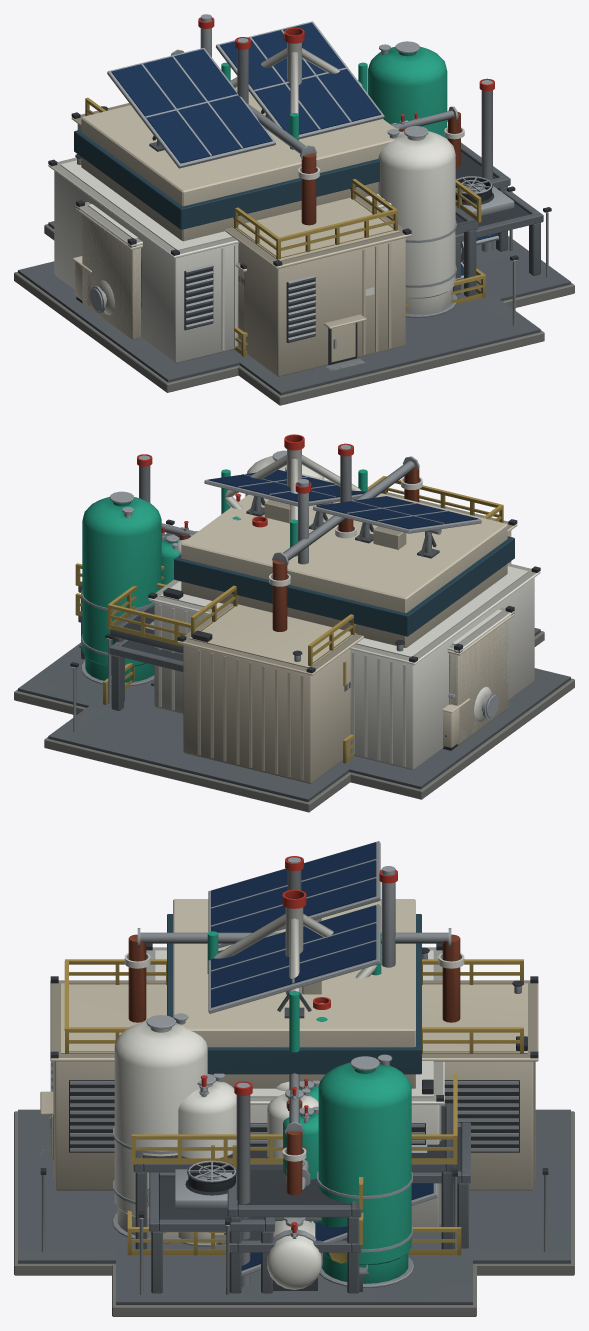
The model's file is buildings.glb.
3 views of the same model, one above another, from view 1: azimuth 30°, elevation 25°; view 2: azimuth 150°, elevation 25°; view 3: azimuth 270°, elevation 25° (orthographic). The views are drawn at different scales.
Visible parts, largest first — view 1: bld_3x2_a, bld_2x3_a, bld_3x1_c, bld_3x1_b, bld_2x2_a, bld_3x1_a, bld_2x2_f, bld_3x1_d; view 2: bld_3x2_a, bld_2x3_a, bld_2x2_a, bld_3x1_b, bld_3x1_c, bld_3x1_a, bld_3x1_d, bld_2x2_f; view 3: bld_3x2_a, bld_2x3_a, bld_2x2_a, bld_3x1_c, bld_3x1_a, bld_3x1_b, bld_2x2_b, bld_2x2_f, bld_3x1_d, bld_2x1_a.
Boxes of the visible parts, box(x1,y1,x2,y2) form: bld_3x2_a: box(14, 14, 574, 392); bld_2x3_a: box(44, 37, 544, 405); bld_3x1_c: box(76, 78, 510, 339); bld_3x1_b: box(76, 112, 515, 339); bld_2x2_a: box(221, 27, 481, 366); bld_3x1_a: box(55, 233, 528, 361); bld_2x2_f: box(234, 261, 485, 356); bld_3x1_d: box(90, 231, 507, 315); bld_3x2_a: box(14, 469, 574, 799); bld_2x3_a: box(44, 443, 544, 812); bld_2x2_a: box(105, 434, 367, 703); bld_3x1_b: box(161, 526, 514, 745); bld_3x1_c: box(75, 454, 514, 741); bld_3x1_a: box(76, 641, 533, 768); bld_3x1_d: box(75, 593, 498, 721); bld_2x2_f: box(103, 663, 354, 763); bld_3x2_a: box(112, 841, 476, 1316); bld_2x3_a: box(14, 856, 574, 1275); bld_2x2_a: box(113, 889, 475, 1264); bld_3x1_c: box(227, 1073, 363, 1293); bld_3x1_a: box(211, 1222, 377, 1316); bld_3x1_b: box(225, 1078, 322, 1294); bld_2x2_b: box(176, 1073, 236, 1246); bld_2x2_f: box(127, 1210, 461, 1255); bld_3x1_d: box(229, 1212, 363, 1292); bld_2x1_a: box(214, 1081, 318, 1260).
Bounding box in the file's own units: 2.86 × 1.74 × 2.86.
